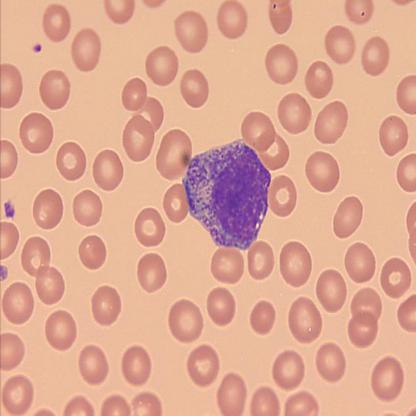Myelocyte: (184, 143, 274, 246)
